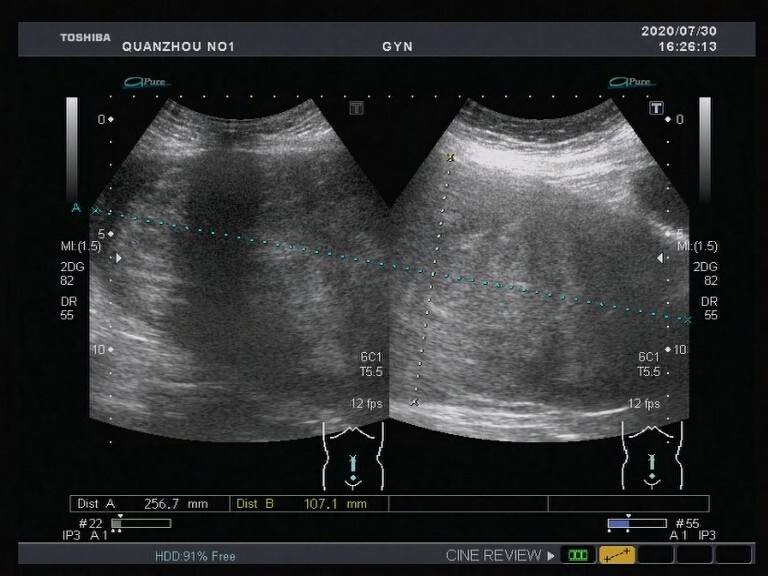肌瘤: (132, 163, 375, 353)
